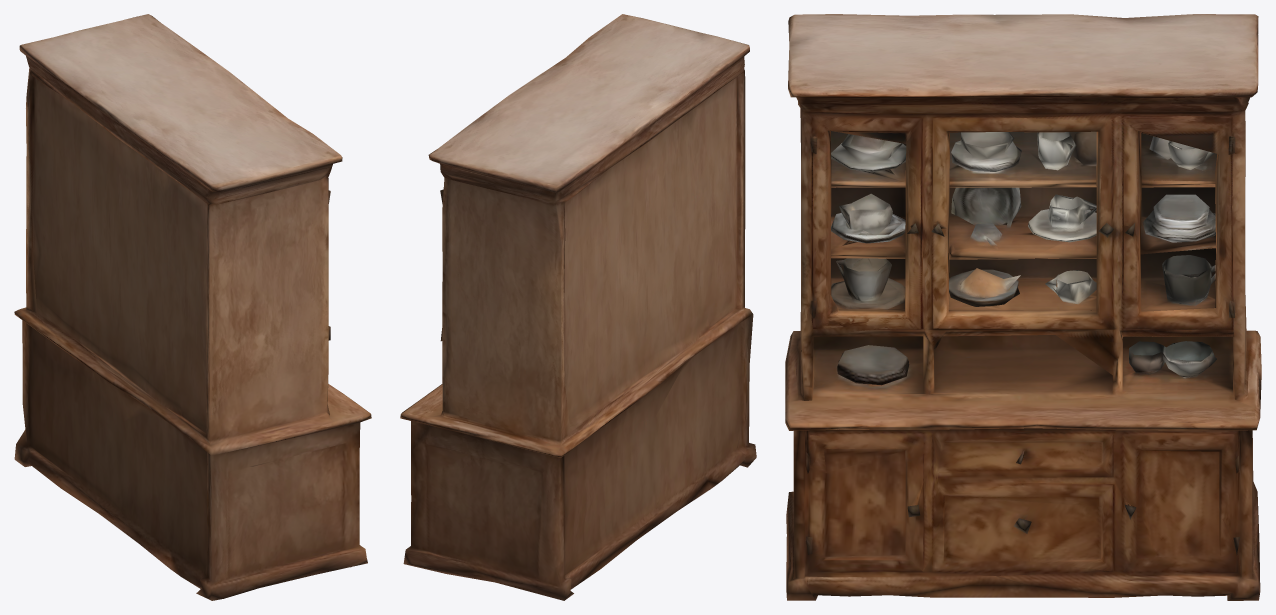
The model's file is kh_sideboard.glb.
3 views of the same model, side by side, from view 1: azimuth 30°, elevation 25°; view 2: azimuth 150°, elevation 25°; view 3: azimuth 270°, elevation 25° (orthographic). The views are drawn at different scales.
Parts seen in each view (by area): view 1: tripo_node_865b7702-8019-4693-916f-c0d950e7895f; view 2: tripo_node_865b7702-8019-4693-916f-c0d950e7895f; view 3: tripo_node_865b7702-8019-4693-916f-c0d950e7895f.
Boxes of the visible parts, x1,y1,x2,y2 form: tripo_node_865b7702-8019-4693-916f-c0d950e7895f: [14, 14, 371, 600]; tripo_node_865b7702-8019-4693-916f-c0d950e7895f: [400, 14, 756, 600]; tripo_node_865b7702-8019-4693-916f-c0d950e7895f: [785, 14, 1261, 600].
Bounding box in the file's own units: 0.4178 × 1 × 0.8678.
1 material, 1 textured.
